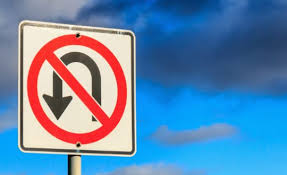No_u_turn: (26, 34, 127, 144)
